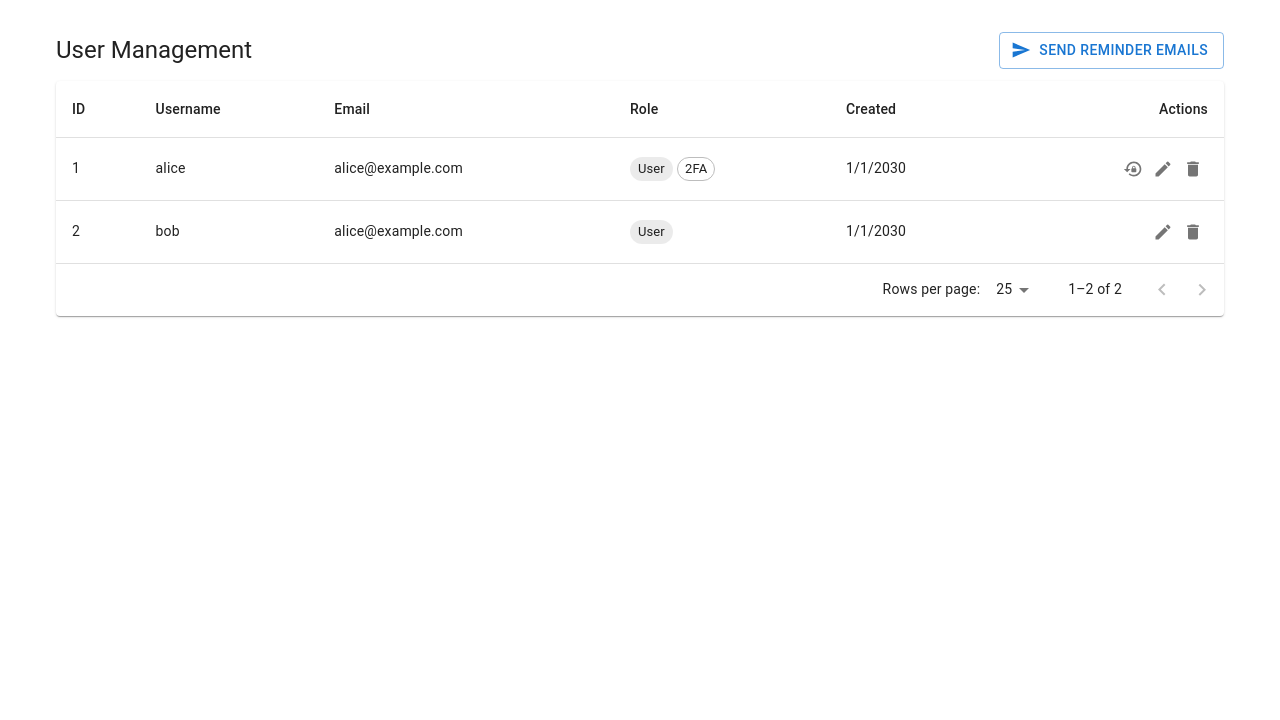
UsersPage two-factor reset › only users with two-factor get the badge and the reset button, and a reset asks first
Expected: the text "alice" is shown, left=140, top=137, right=318, bottom=200
Expected: the text "2FA" is shown once, left=685, top=161, right=707, bottom=176
Click the button named "Reset two-factor": (1133, 168) left=1118, top=154, right=1148, bottom=184
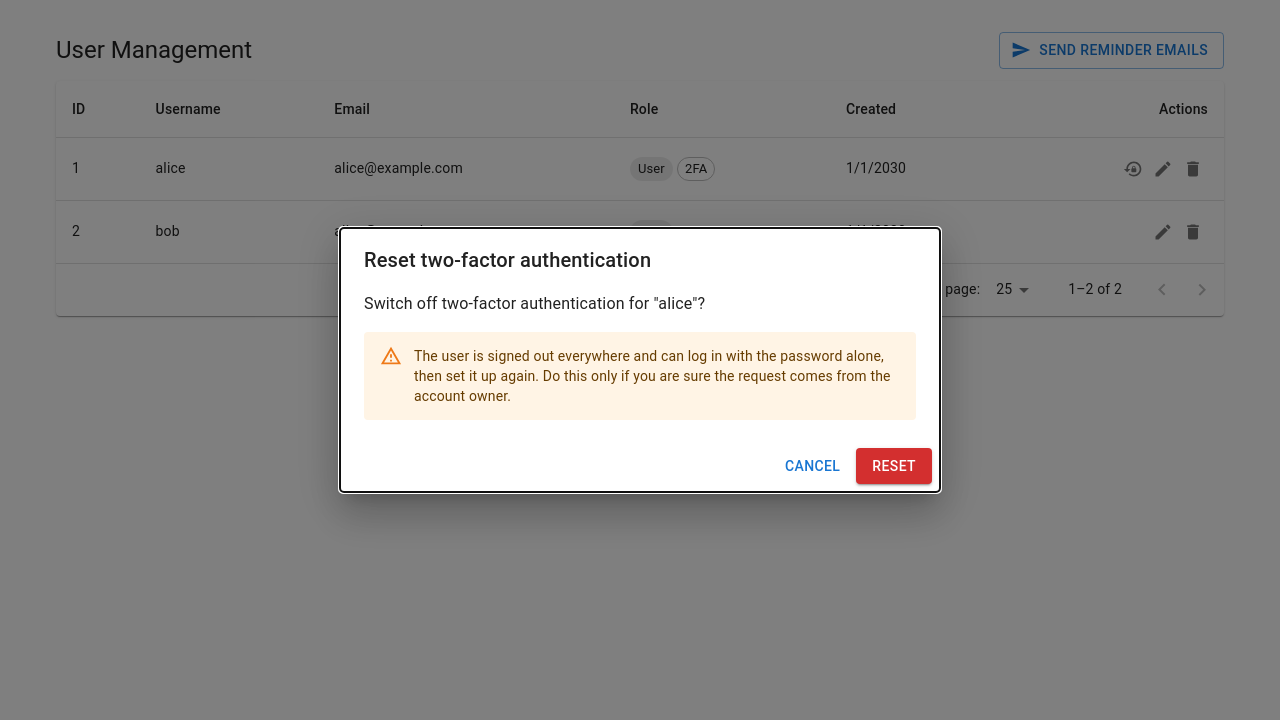
Click the button "Reset": (894, 466) left=856, top=448, right=932, bottom=484
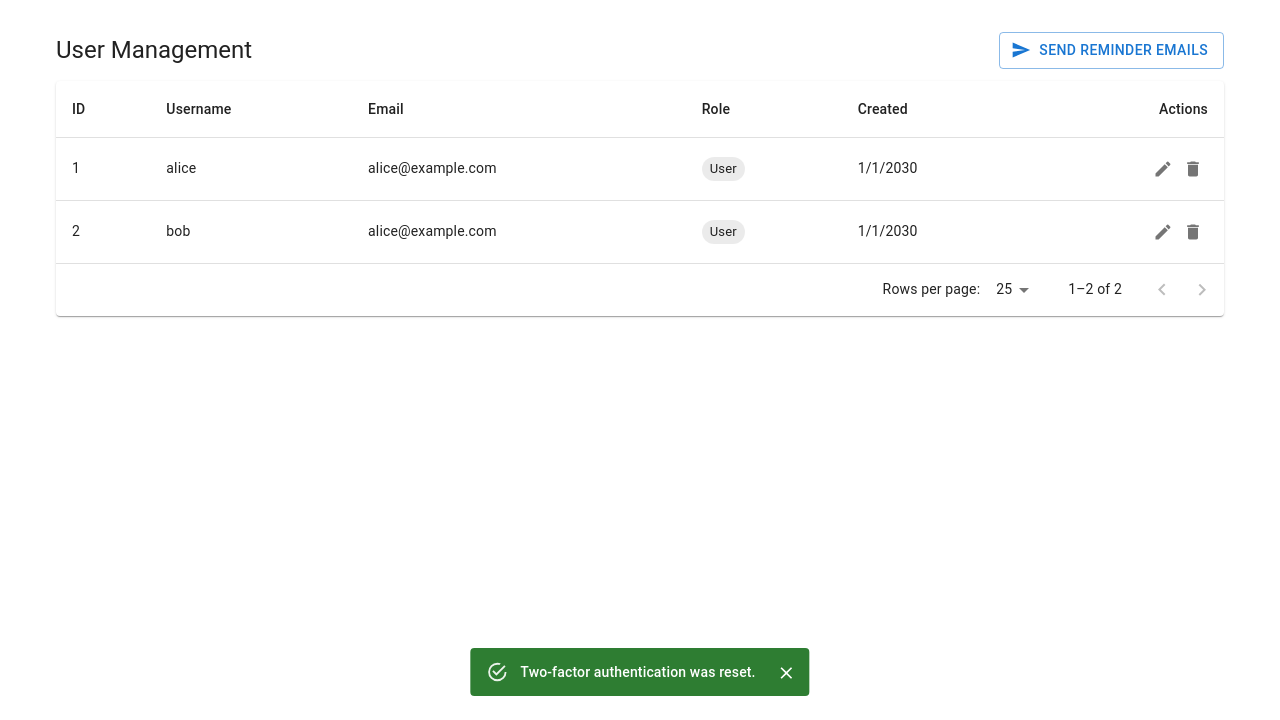
Expected: the text "2FA" is gone
